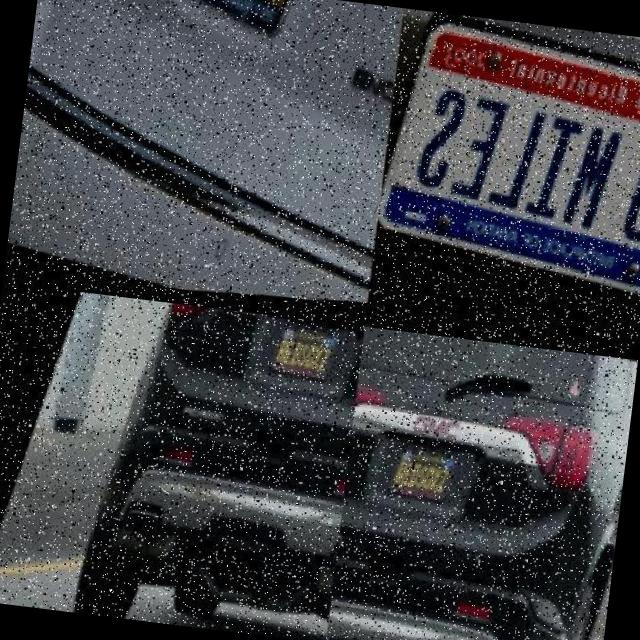LicensePlate: (382, 56, 640, 268), (170, 0, 316, 85), (386, 439, 460, 516), (268, 318, 342, 394)
